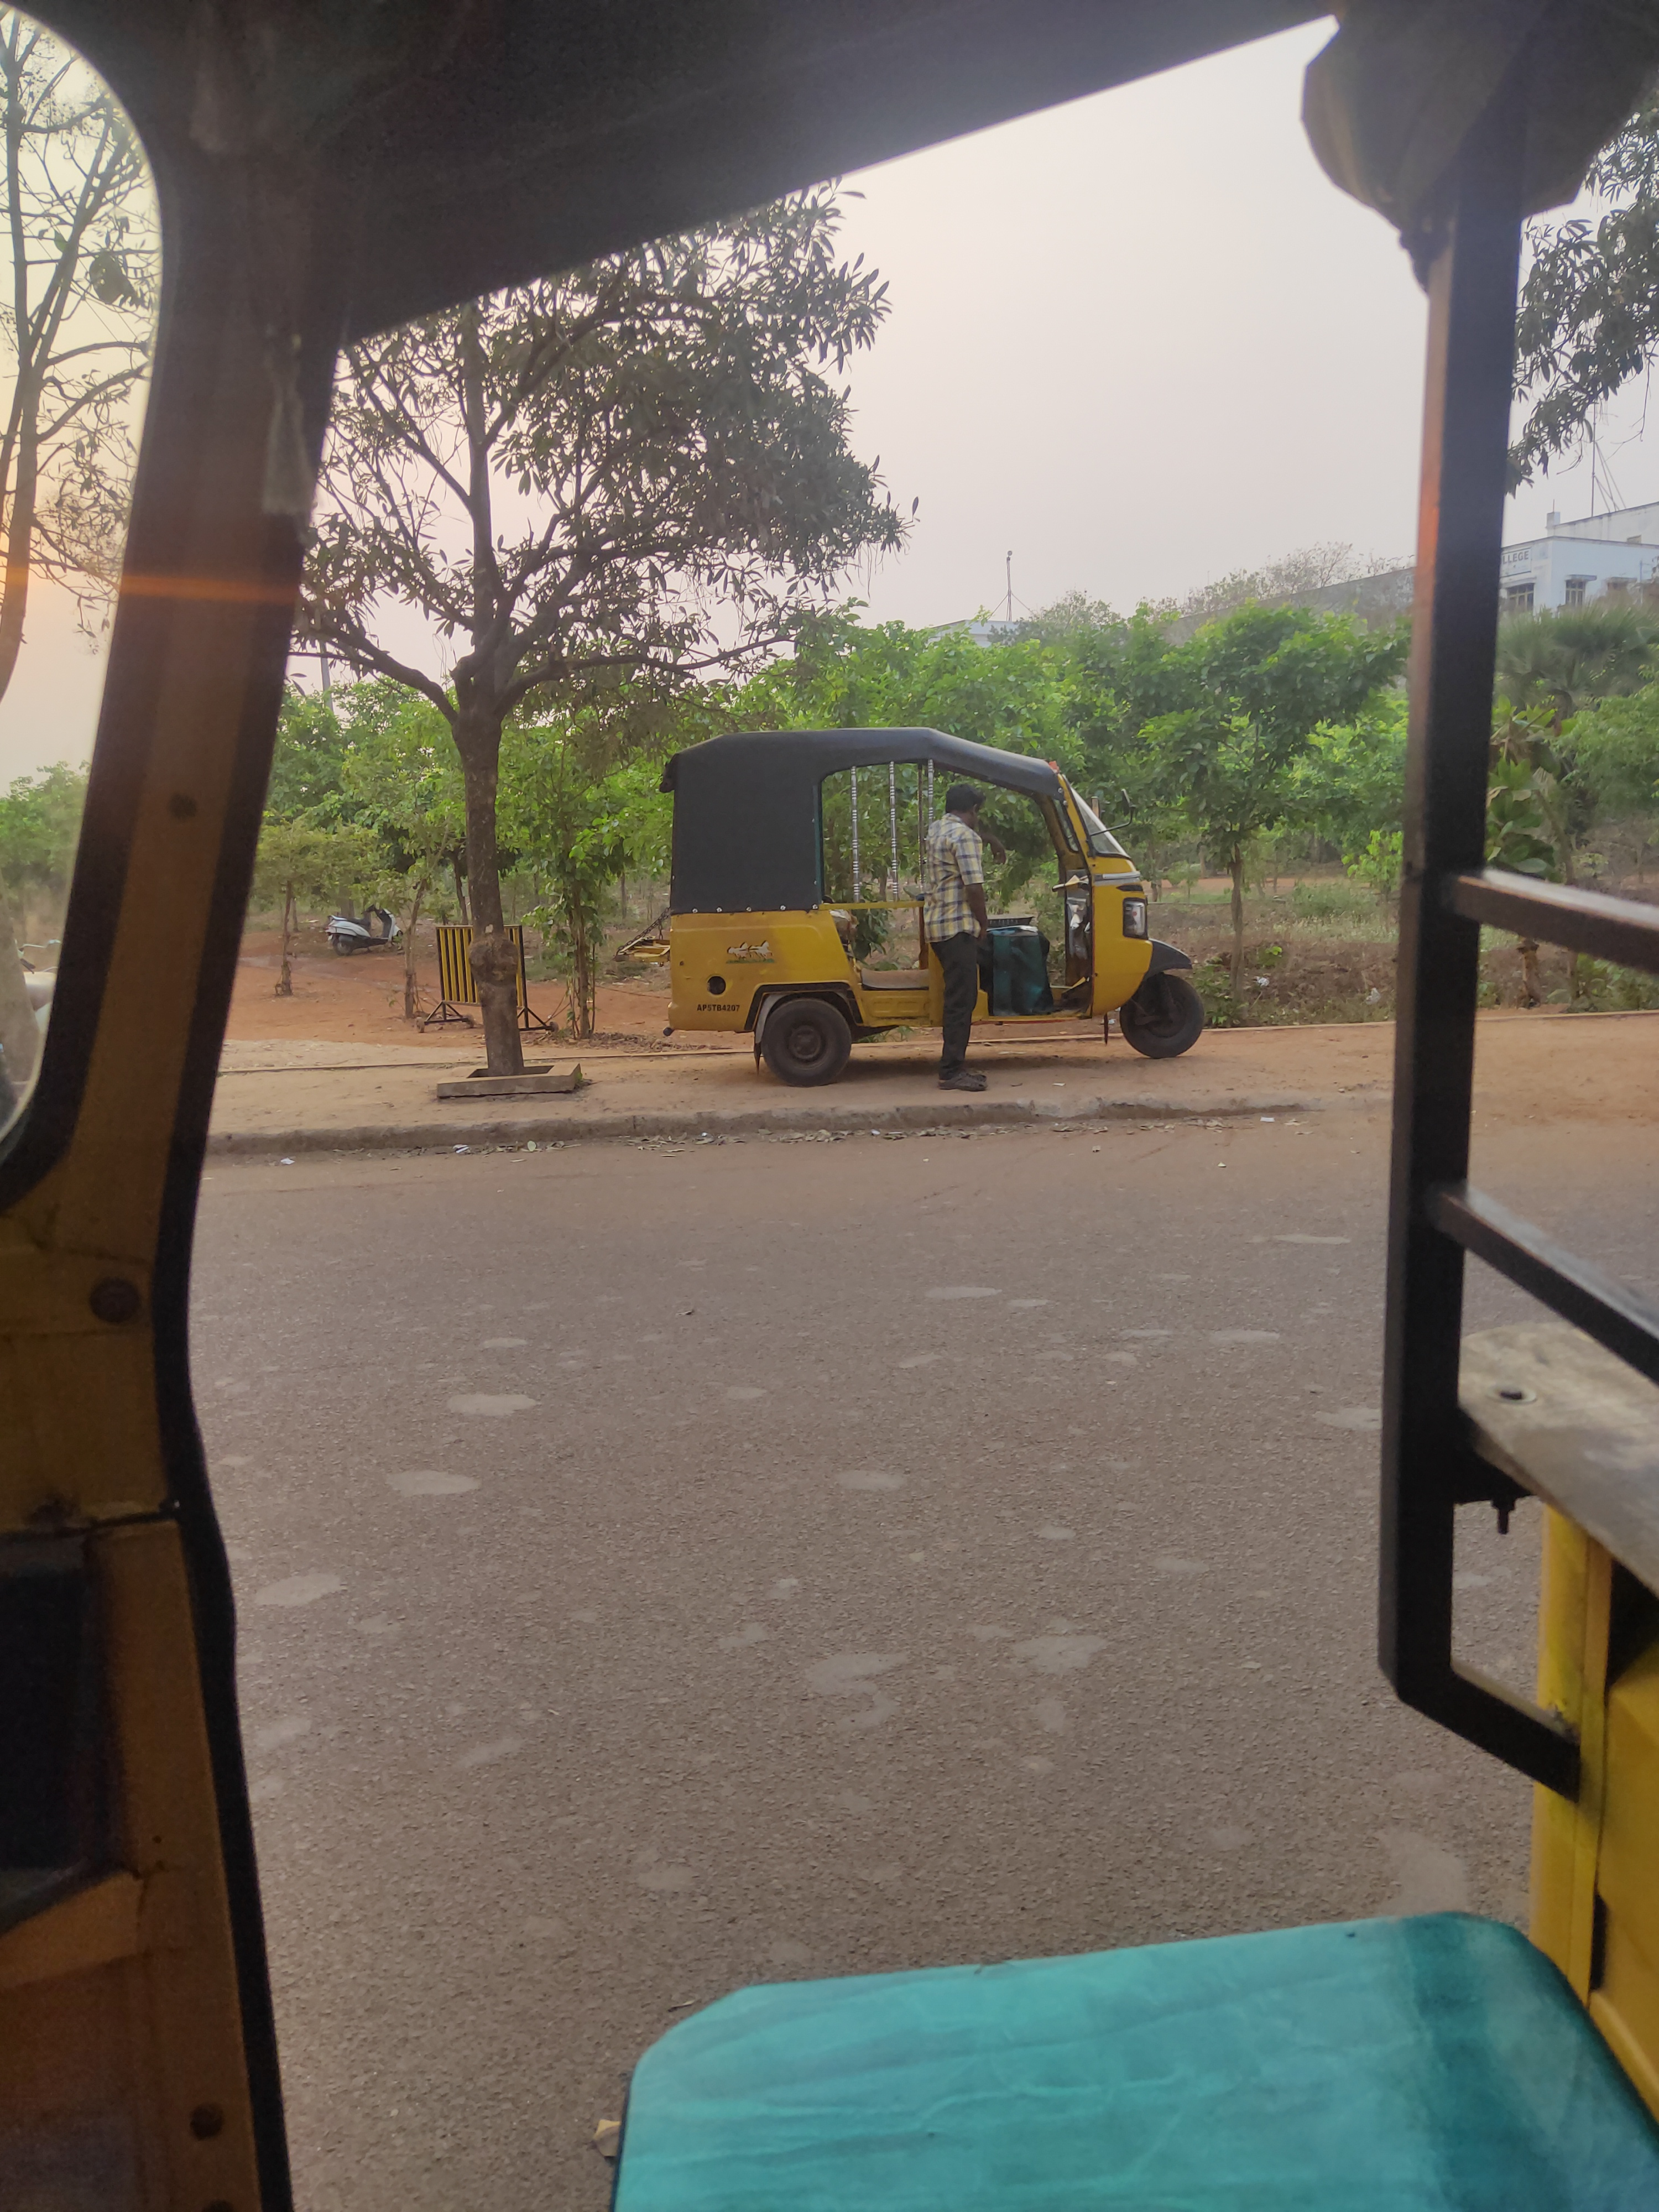auto: (617, 725, 1204, 1085)
two_wheelers: (321, 900, 403, 956)
